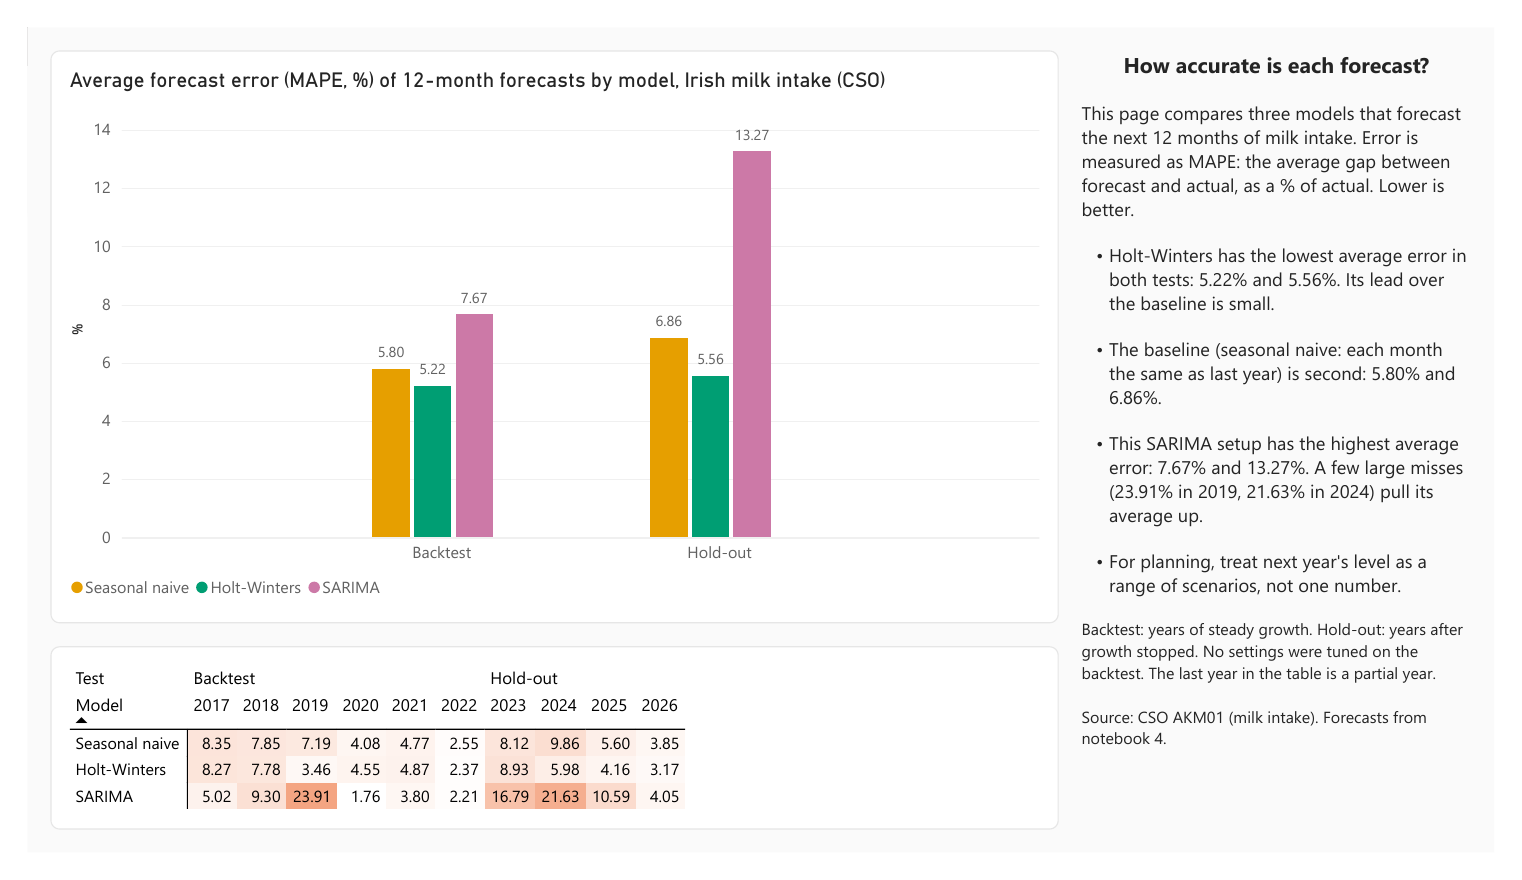

The page's visual inventory and layout, read from the dashboard file:
{"tool":"powerbi","page":{"name":"Forecast accuracy","canvas":[1280,720],"ordinal":4},"visuals":[{"type":"clusteredColumnChart","title":"Average forecast error (MAPE, %) of 12-month forecasts by model, Irish milk intake (CSO)","fields":{"Category":["forecast_mape.test"],"Series":["forecast_mape.model"],"Y":["forecast_mape.Average MAPE (%)"]},"box":[20,20,880,500],"z":0},{"type":"pivotTable","fields":{"Columns":["forecast_mape.test","forecast_mape.year"],"Rows":["forecast_mape.model"],"Values":["forecast_mape.Average MAPE (%)"]},"box":[20,540,880,160],"z":1000},{"type":"textbox","box":[920,20,340,680],"z":2000}]}

Visuals, with their boxes in screenshot pixels (x1, y1, x2, y2), scaled from the page's 1280x720 canvas onto the 1522x880 screenshot:
"Average forecast error (MAPE, %) of 12-month forecasts by model, Irish milk intake (CSO)" clusteredColumnChart: l=24, t=24, r=1070, b=636
pivotTable - forecast_mape.test x forecast_mape.year: l=24, t=660, r=1070, b=856
textbox: l=1094, t=24, r=1498, b=856
